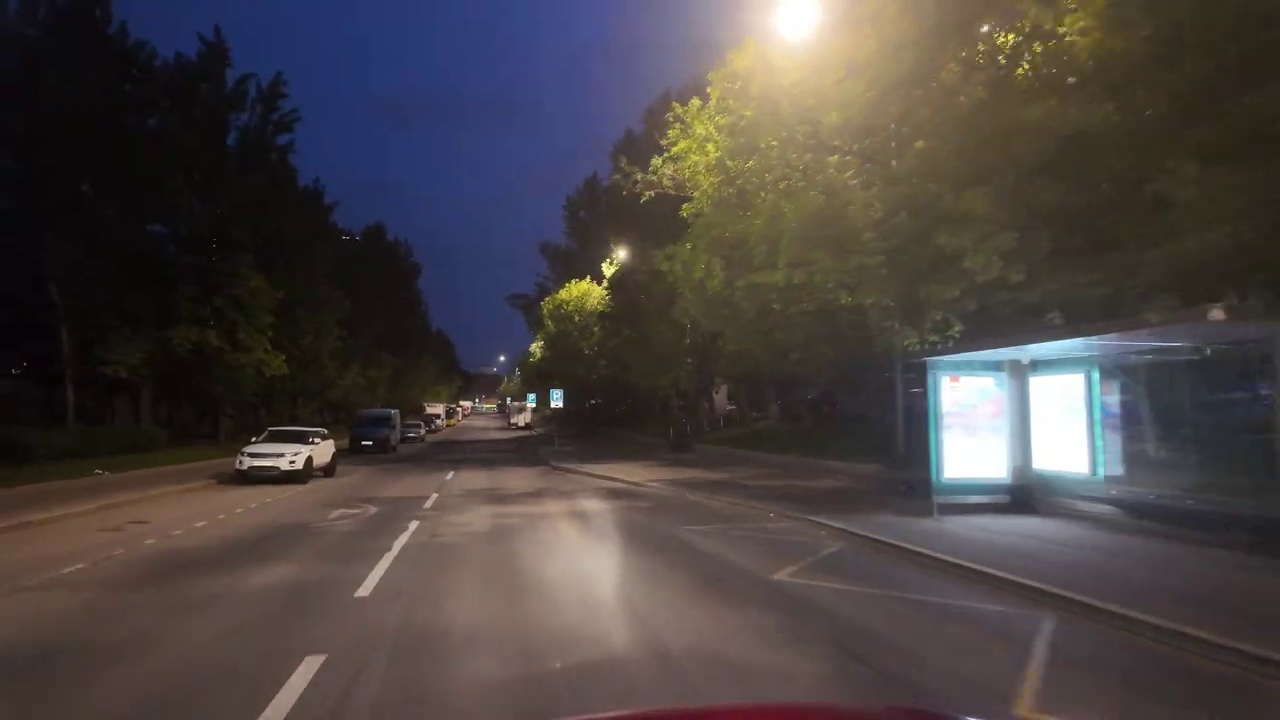acesa: (757, 2, 844, 59)
